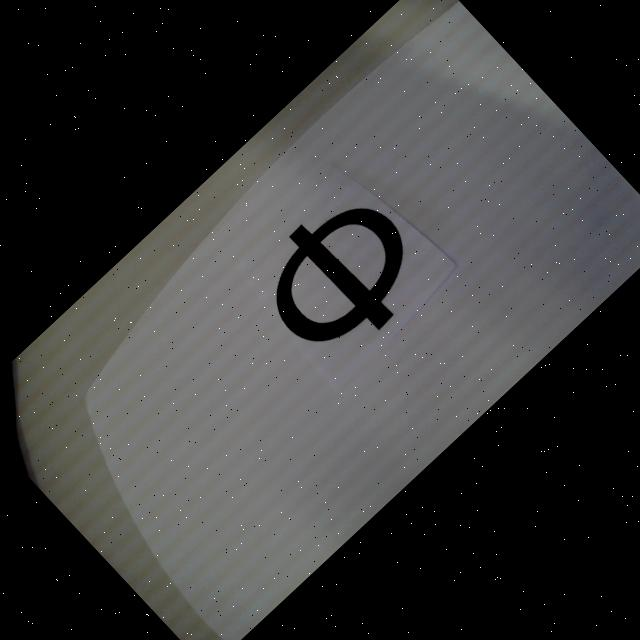PHI: (242, 177, 440, 374)
